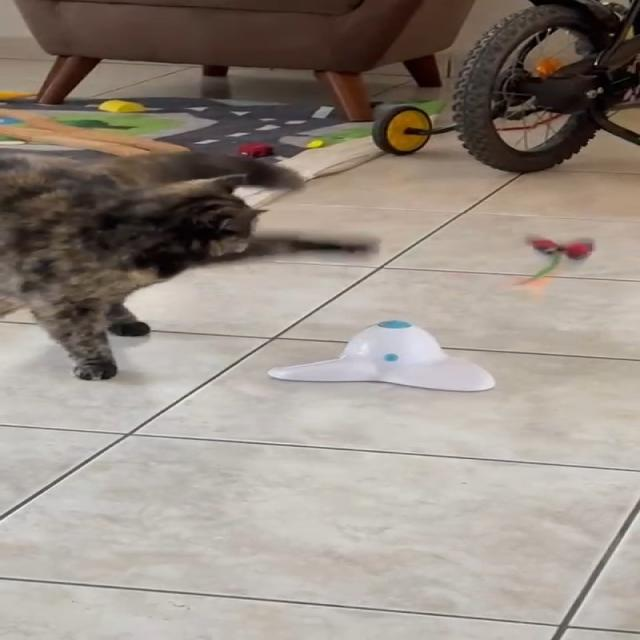authorized: (0, 147, 377, 381)
